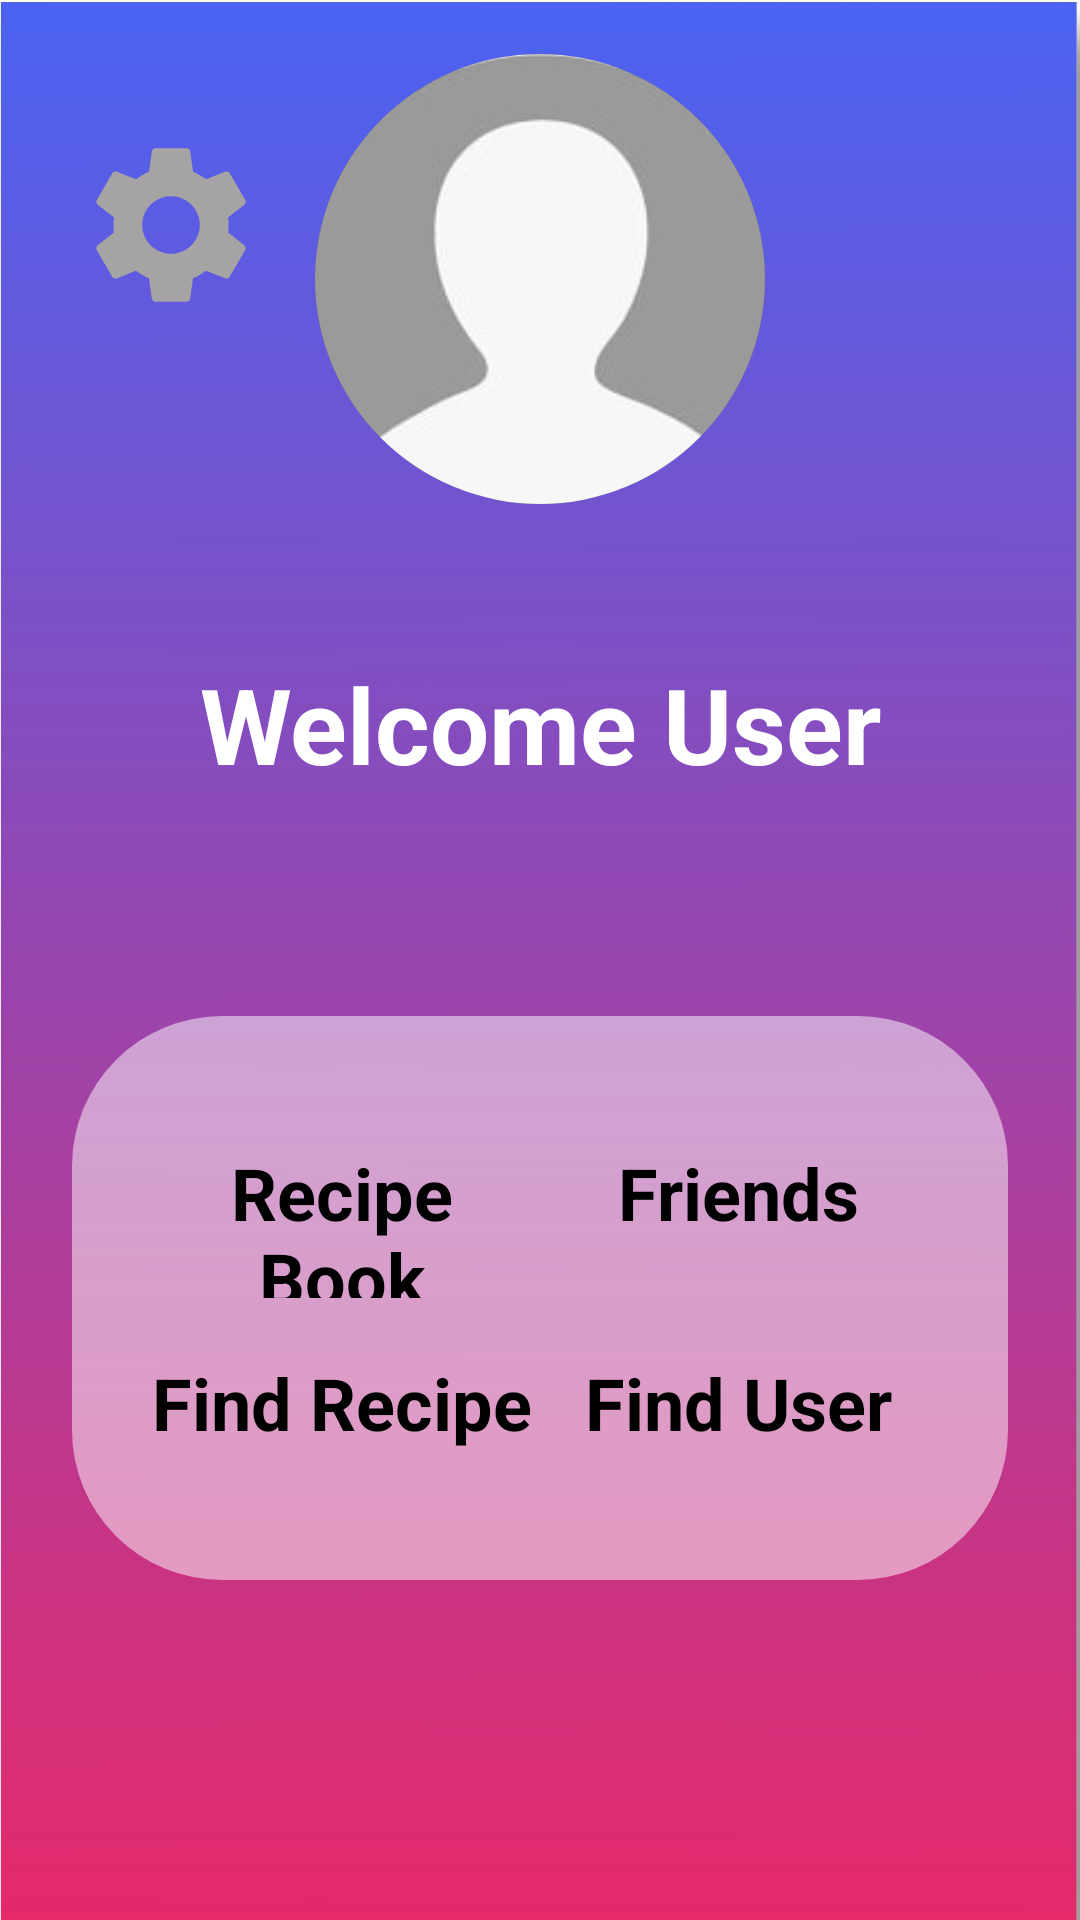

Screen size 1080x1920. Icon name, then its center in pixels as [x,y]:
settings: [171,225]
